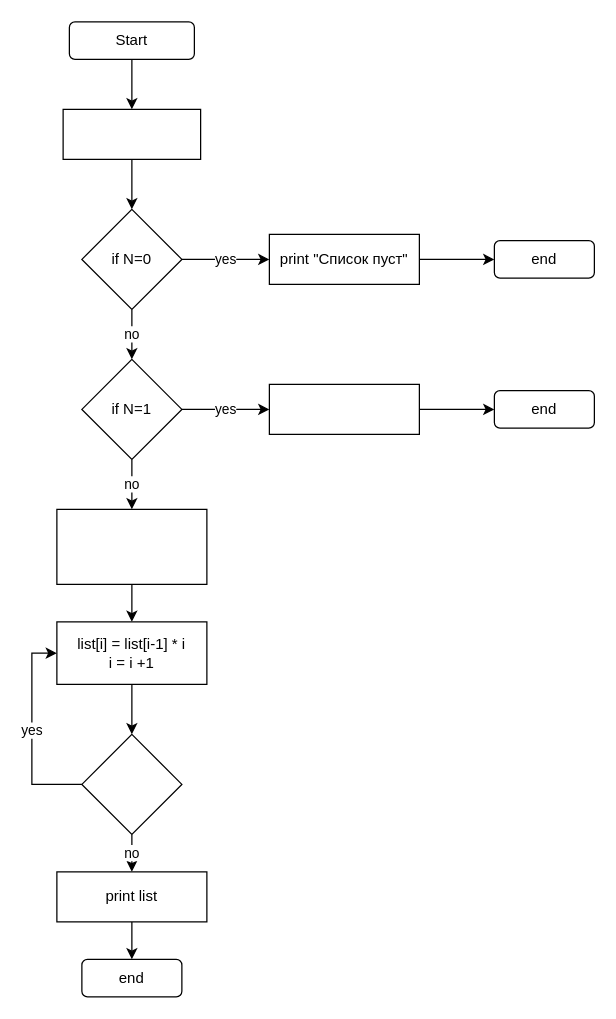
This 616x1019 diagram has some shape labels left out. Each missing label, with the centre of its shape:
create list[N] list[0] = 1 i = 1: (x=131, y=546)
i < N: (x=131, y=783)
input N: (x=131, y=133)
print "[ 1 ]": (x=343, y=408)
